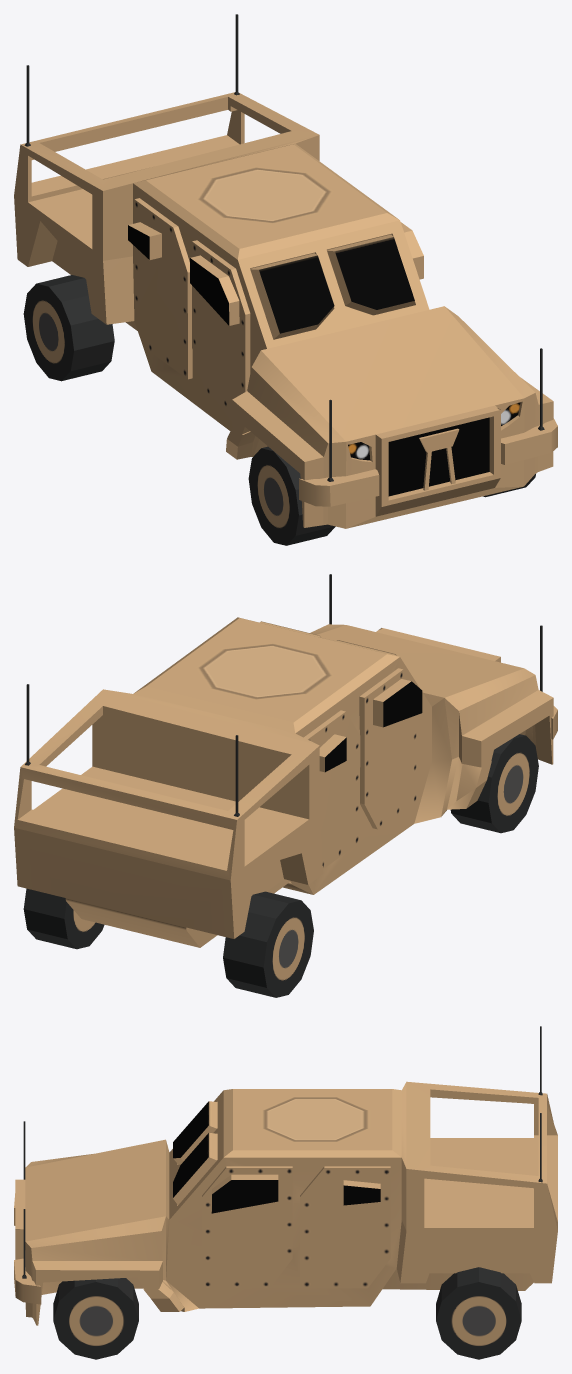
The model's file is APC_01.fbx.
3 renders of one model, top to bottom at view 1: azimuth 30°, elevation 25°; view 2: azimuth 150°, elevation 25°; view 3: azimuth 270°, elevation 25°, orthographic. The views are drawn at different scales.
Visible parts, largest first — view 1: APC_01_Body, APC_01_Wheel04, APC_01_Wheel01; view 2: APC_01_Body, APC_01_Wheel04, APC_01_Wheel01, APC_01_Wheel03; view 3: APC_01_Body, APC_01_Wheel03, APC_01_Wheel02.
Boxes of the visible parts, left/top/right/bottom form: APC_01_Body: left=14, top=92, right=557, bottom=528; APC_01_Wheel04: left=23, top=275, right=114, bottom=381; APC_01_Wheel01: left=248, top=446, right=335, bottom=545; APC_01_Body: left=14, top=617, right=557, bottom=947; APC_01_Wheel04: left=223, top=891, right=313, bottom=997; APC_01_Wheel01: left=450, top=734, right=538, bottom=833; APC_01_Wheel03: left=23, top=888, right=104, bottom=949; APC_01_Body: left=14, top=1081, right=557, bottom=1325; APC_01_Wheel03: left=436, top=1267, right=521, bottom=1359; APC_01_Wheel02: left=53, top=1278, right=138, bottom=1359.
Bounding box in the file's own units: 26.93 × 28.57 × 58.68.
